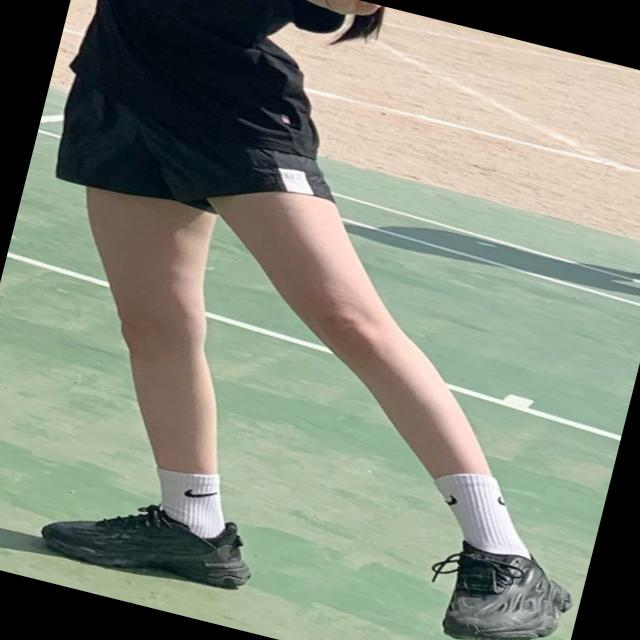shortpants: (45, 76, 353, 245)
shortsleeve: (63, 0, 351, 142)
